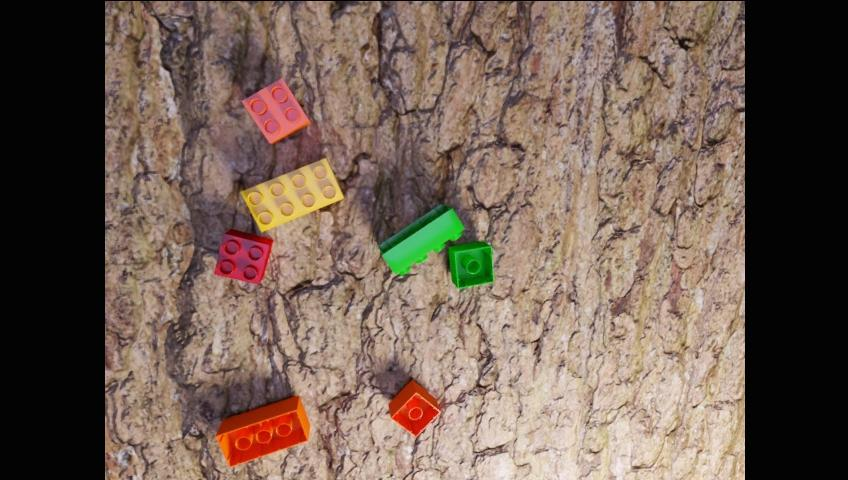2x2_green: (449, 241, 493, 289)
2x2_orange: (242, 78, 309, 144), (388, 380, 440, 437)
2x2_red: (214, 229, 273, 285)
4x2_green: (378, 203, 464, 275)
4x2_orange: (216, 395, 310, 467)
4x2_yellow: (241, 158, 343, 232)
